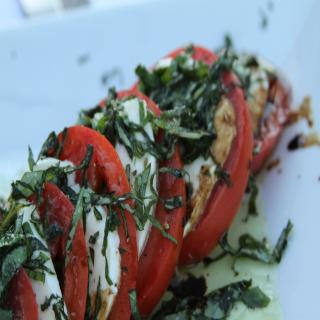tomato: (77, 88, 186, 320), (146, 47, 252, 261), (41, 125, 139, 319), (26, 180, 88, 320), (8, 264, 39, 320)
